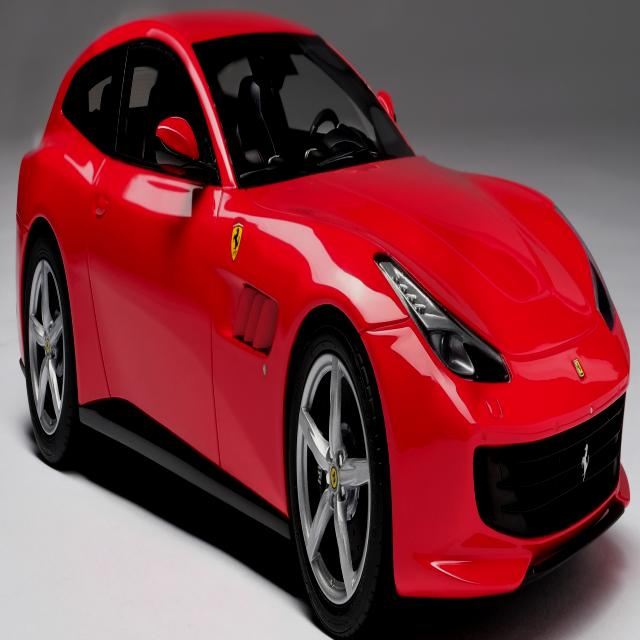red: (15, 9, 640, 640)
